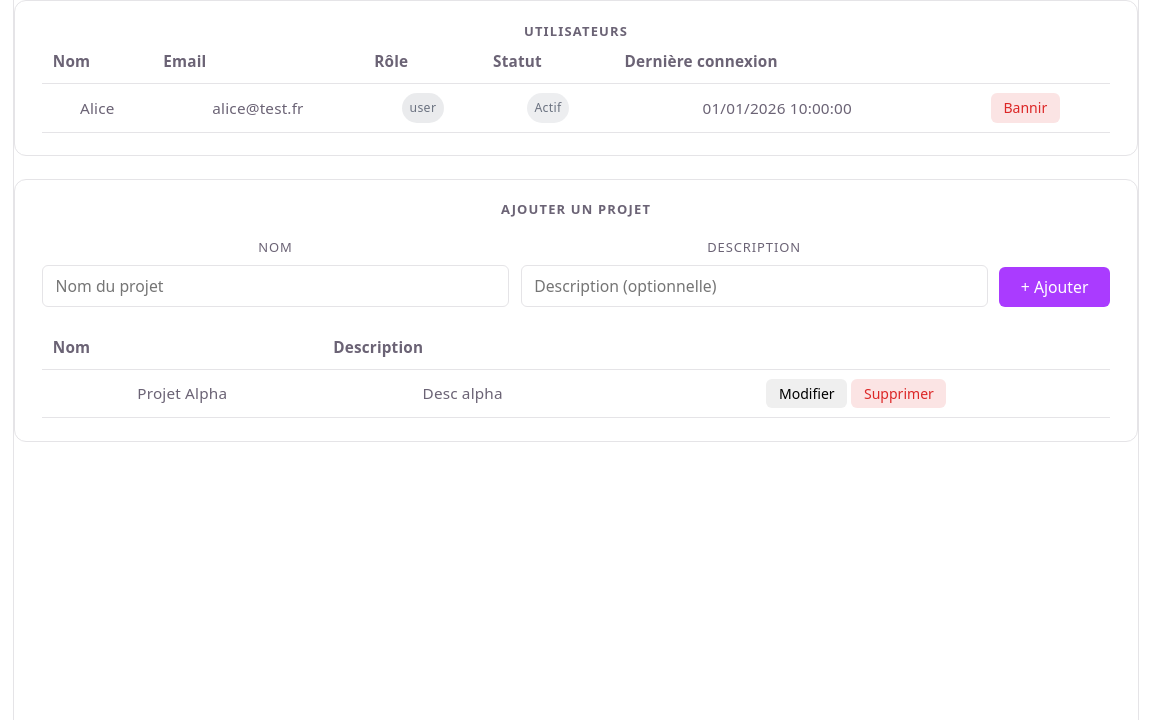
Test case: Moderation › bannit un utilisateur après confirmation
The width and height of the screenshot is (1152, 720).
Click the button "Bannir": (1025, 108) [991,93,1060,123]
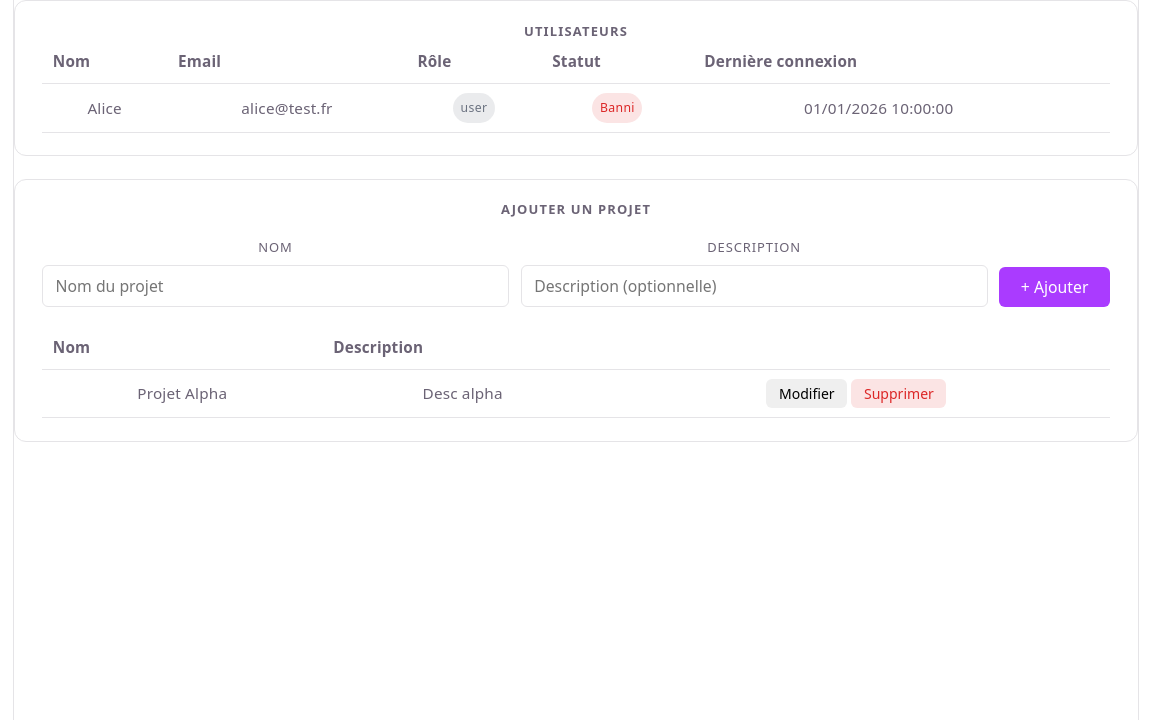
Check: the text "Banni" is shown, box [592,93,642,123]
